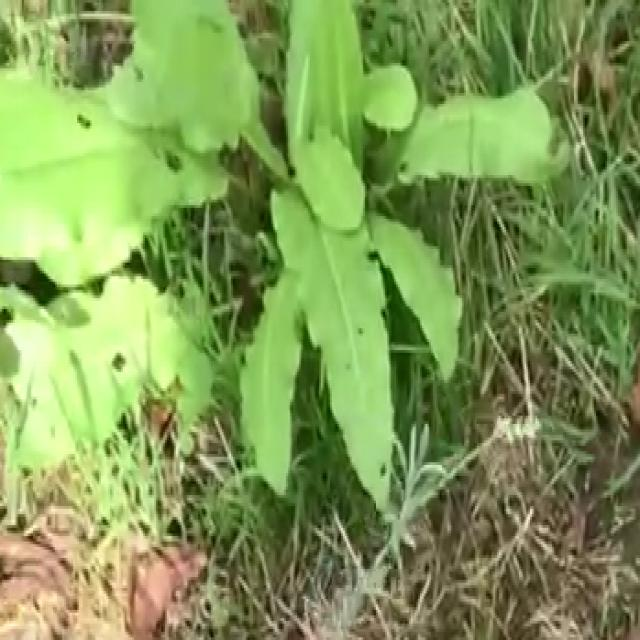organic waste: (0, 0, 550, 563)
